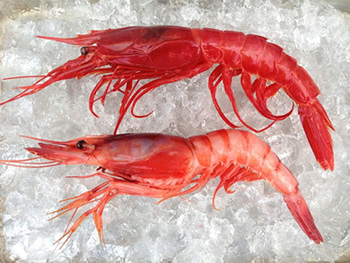Red Prawn: (26, 26, 335, 125), (24, 127, 320, 226)
